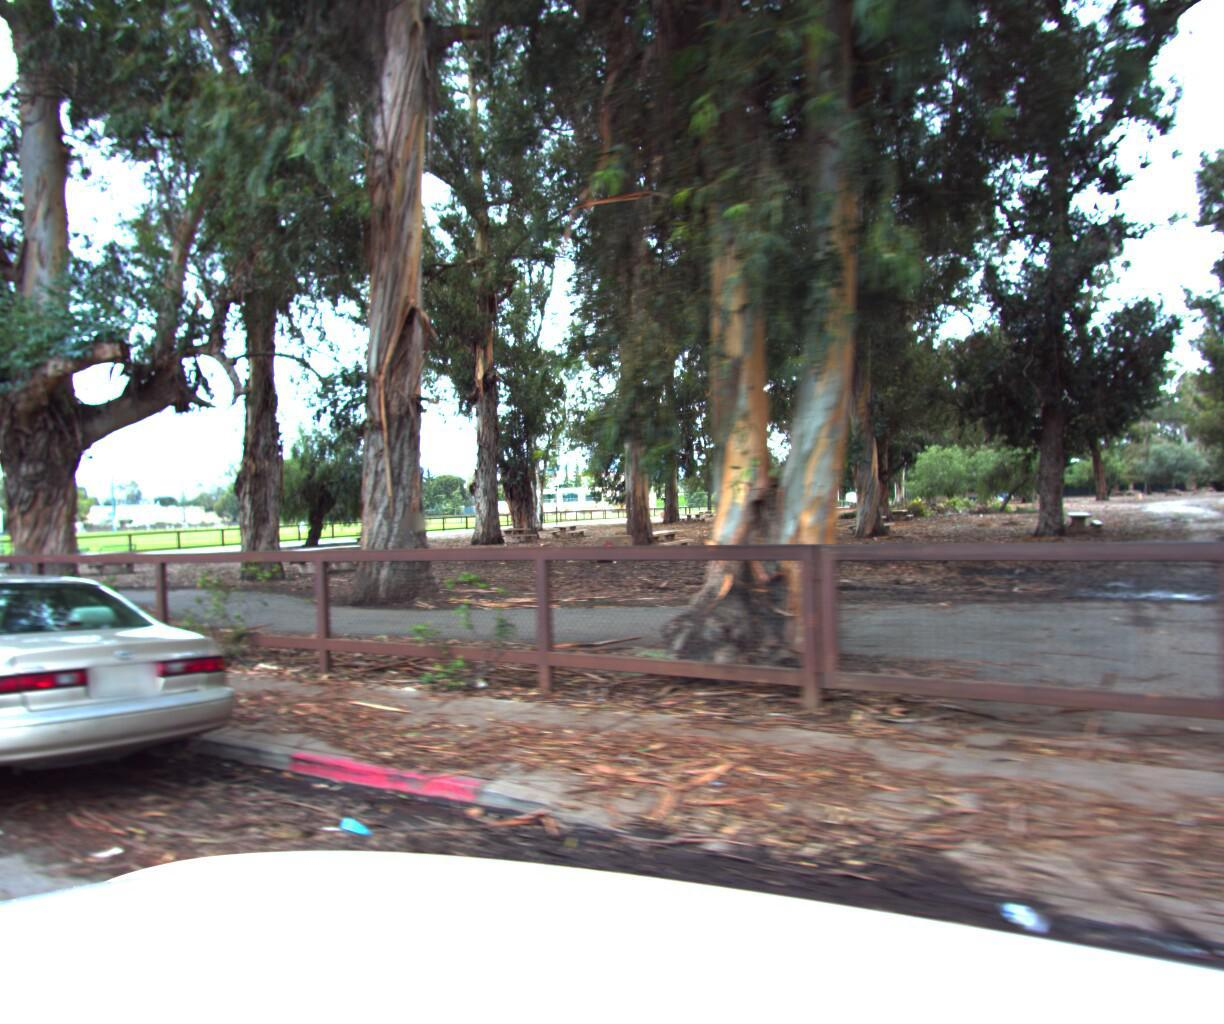bicycle: (0, 544, 61, 579)
car: (0, 559, 276, 851)
